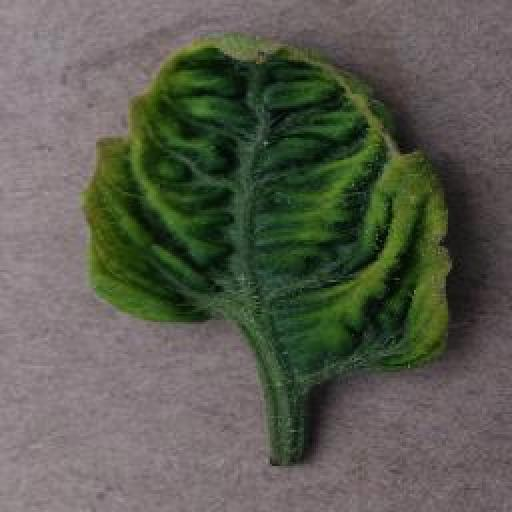disease_tomato: (80, 36, 454, 390)
